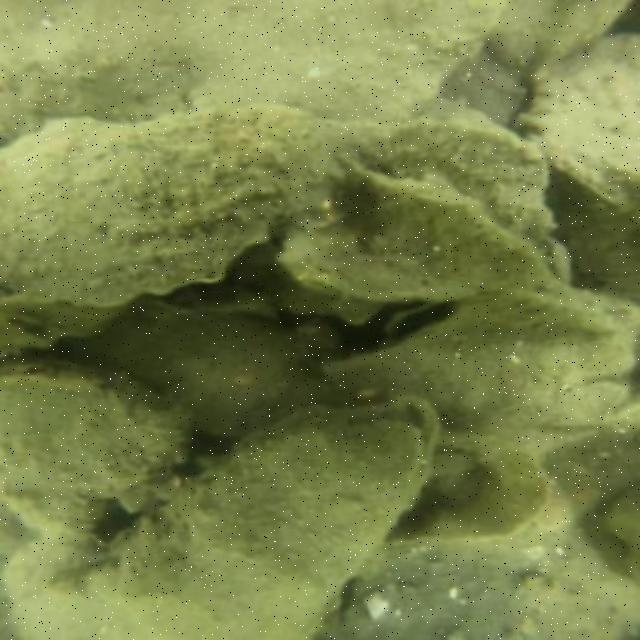Oyster-Closed: (69, 397, 443, 636), (0, 110, 351, 314), (276, 181, 573, 307), (0, 363, 184, 544), (347, 535, 632, 637), (92, 309, 312, 436), (332, 106, 547, 233), (510, 34, 638, 171), (464, 281, 614, 348)
